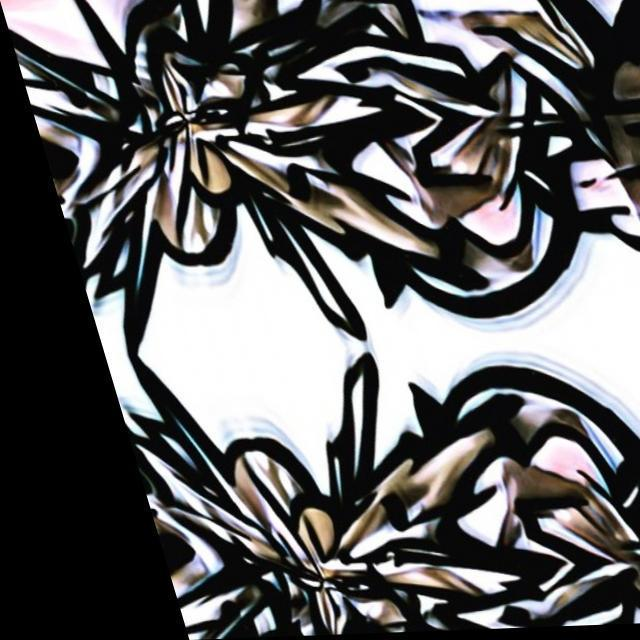-: (0, 0, 640, 360), (85, 340, 640, 640)
